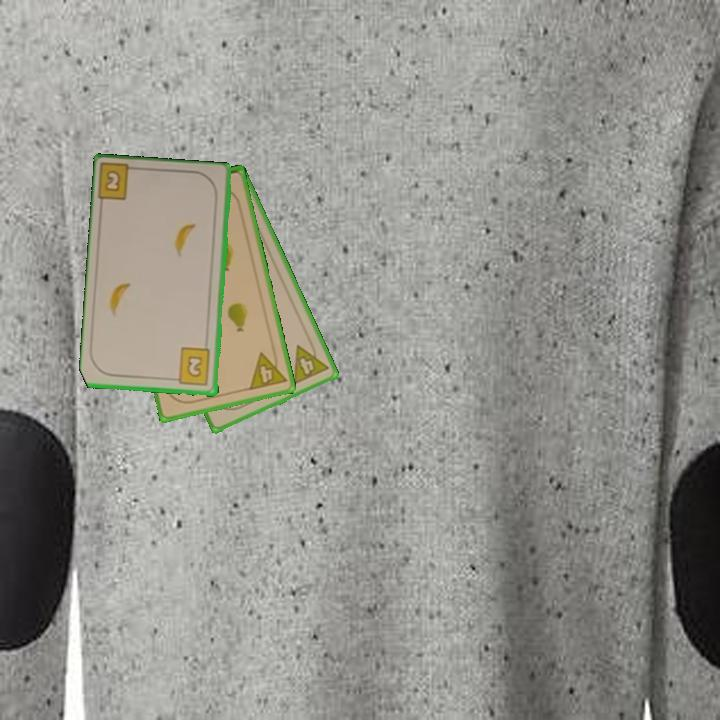2b: (96, 162, 143, 204), (169, 345, 213, 388)
4p: (289, 336, 332, 388), (245, 346, 289, 393)
